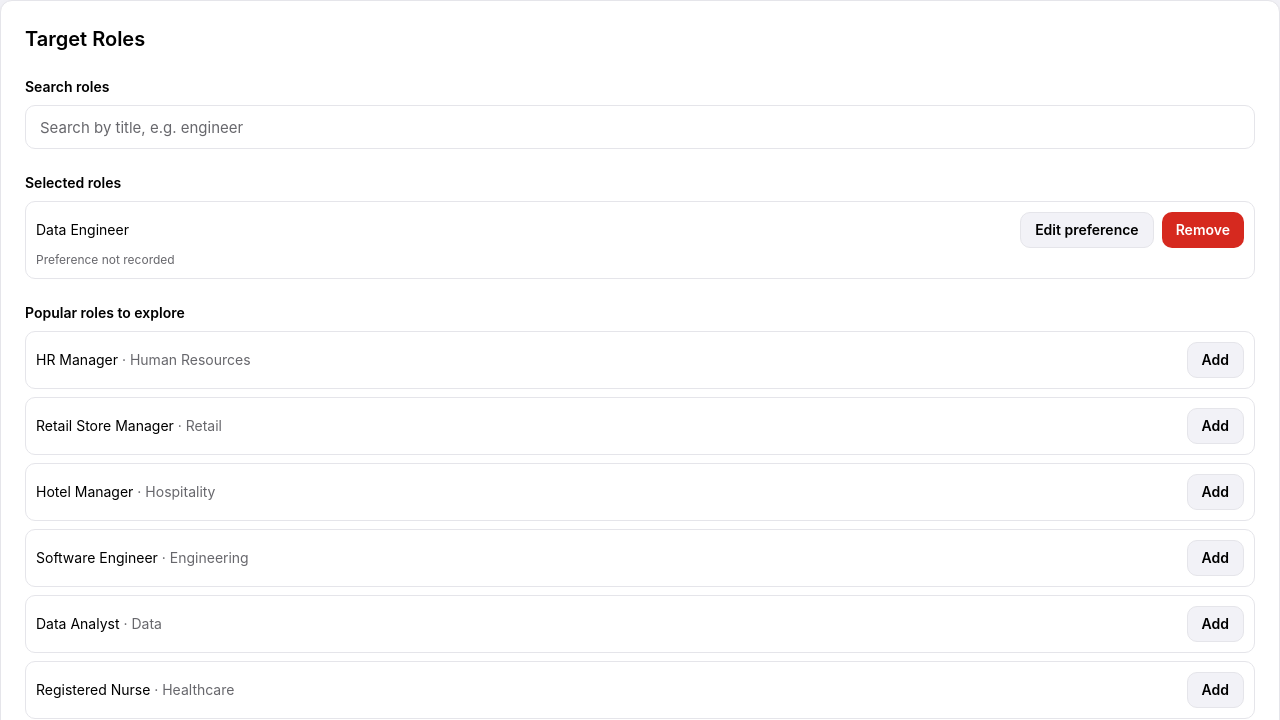
Test: saved intent › does not claim a new phrase was saved when the role already exists
expect the text "Preference not recorded" is shown: met, box x1=36 y1=252 x2=175 y2=267
In the dropdown named "Search target roles": (640, 127) x1=25 y1=105 x2=1255 y2=149, type "Azure Data Engineer"
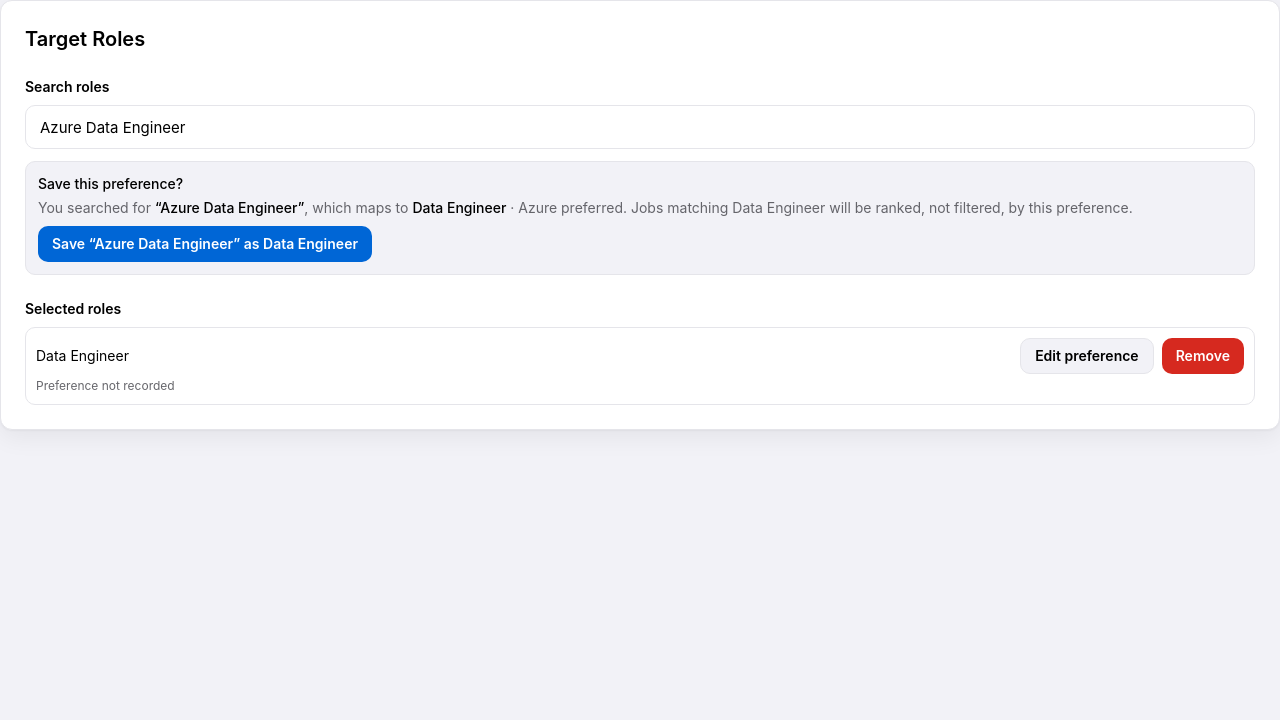
Click the button "Save “Azure Data Engineer” as Data Engineer": click(205, 244) x1=38 y1=226 x2=372 y2=262
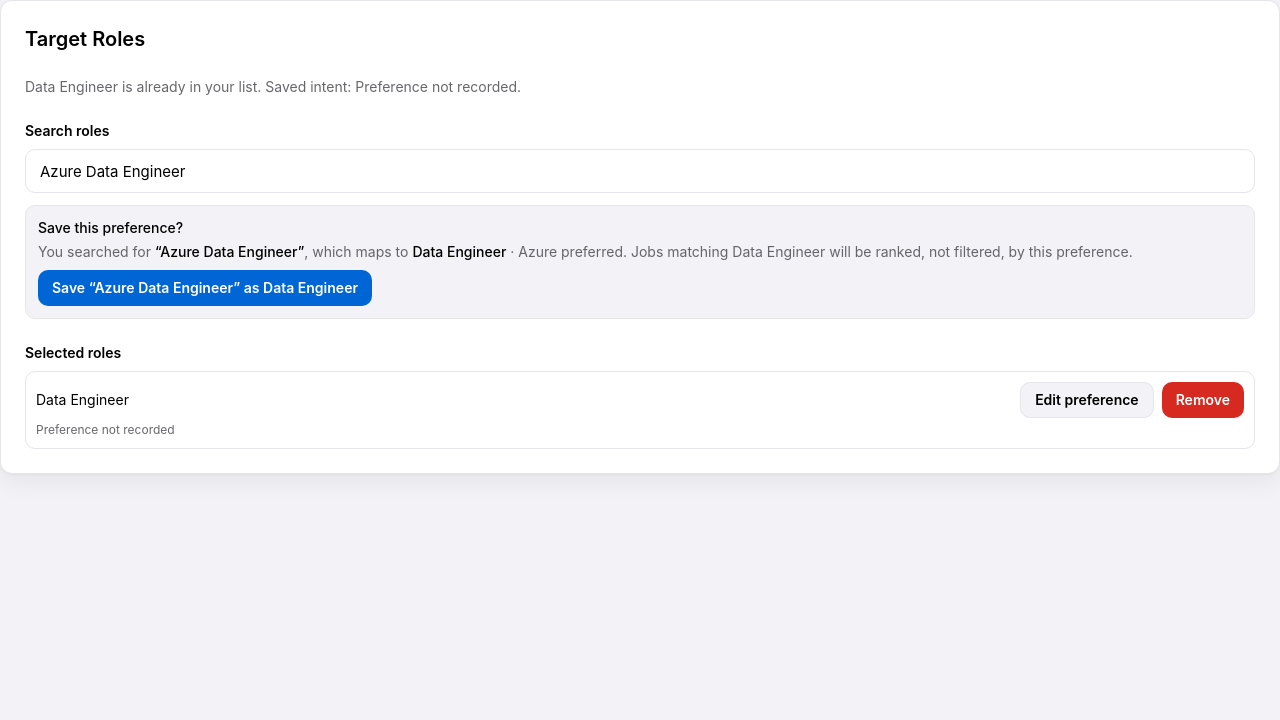
expect the text "Data Engineer is already in your list. Saved intent: Preference not recorded." is shown: met, box x1=25 y1=78 x2=521 y2=95
